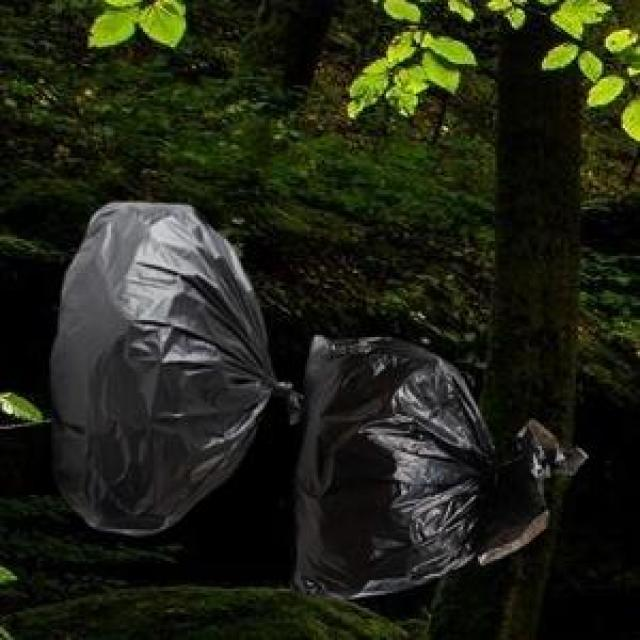Vinyl: (296, 334, 570, 604), (58, 198, 285, 520)
